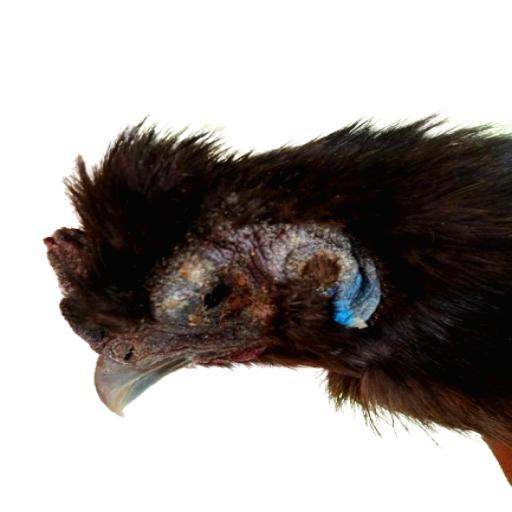disease: (229, 201, 356, 288), (132, 252, 262, 334)
